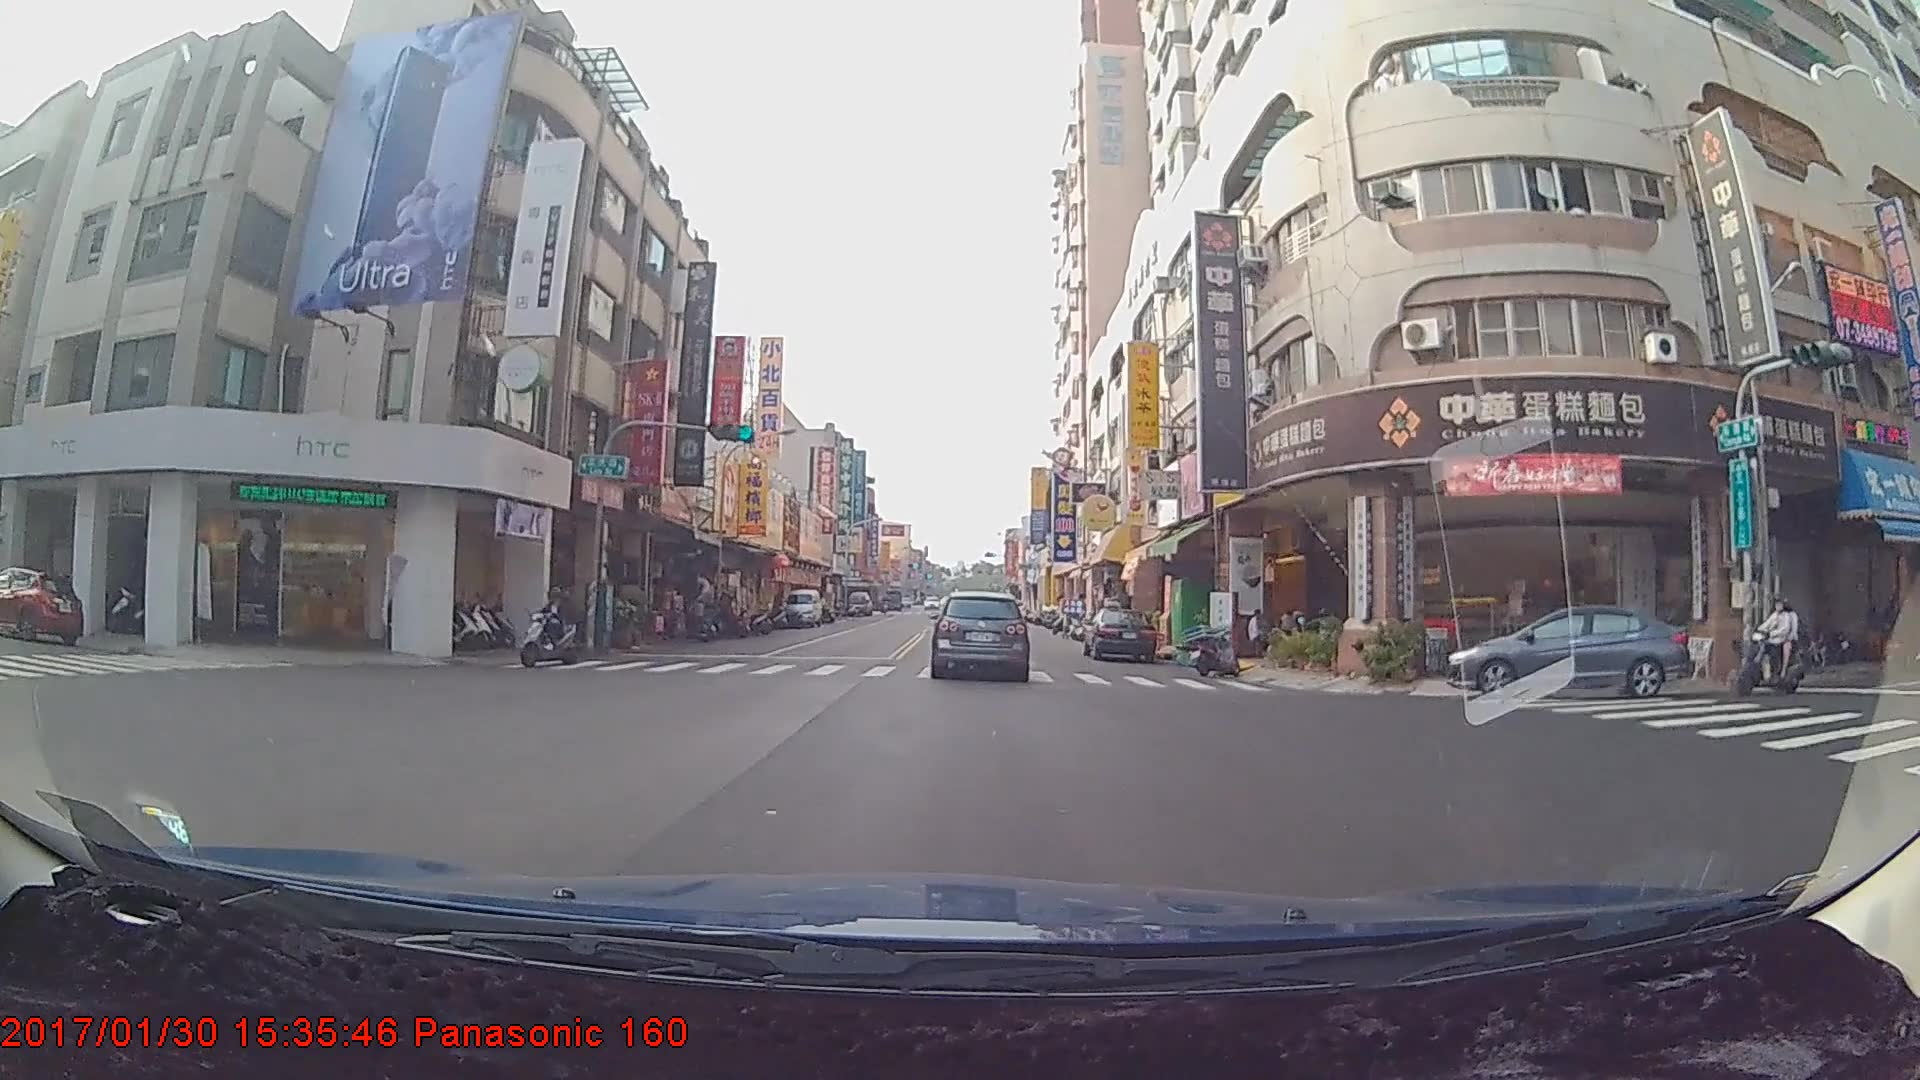pedestrian: (1241, 599, 1269, 653)
rider: (1739, 596, 1816, 694), (502, 570, 578, 662)
vehicle: (1447, 605, 1694, 699), (931, 590, 1029, 679), (0, 564, 82, 642), (1084, 606, 1157, 662), (781, 586, 820, 626), (845, 588, 872, 616)
